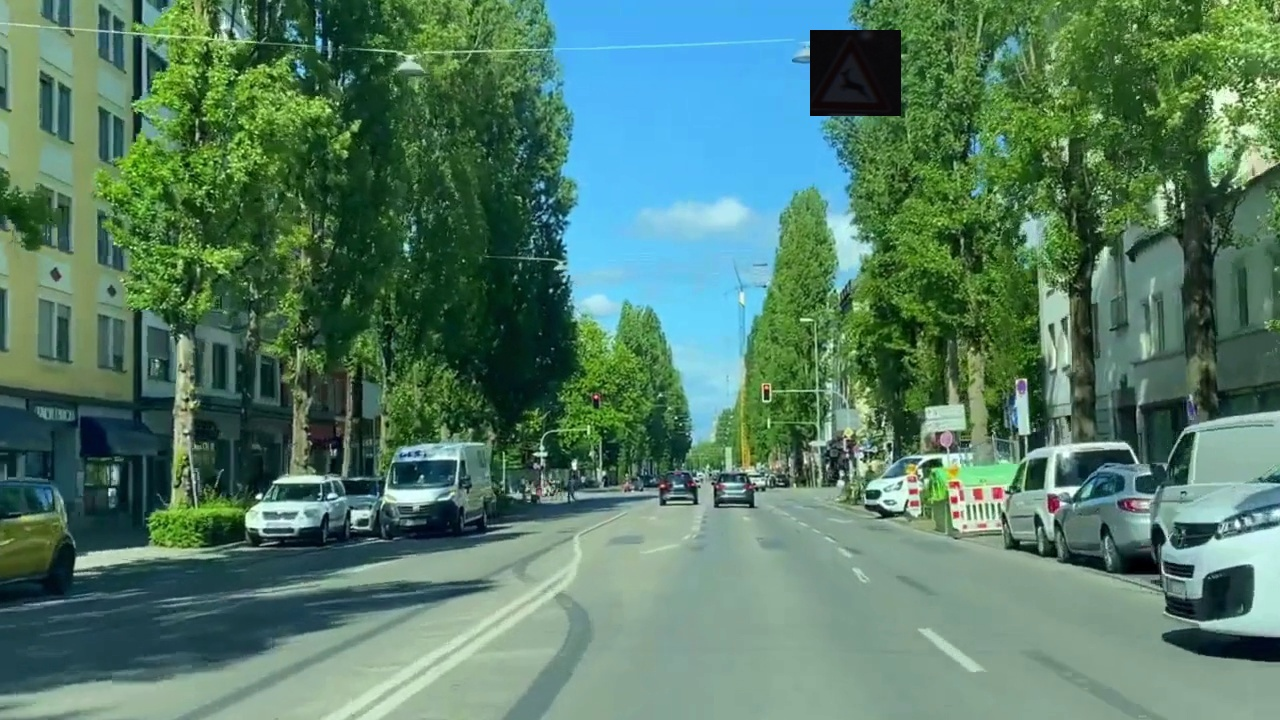Wild animals: (810, 30, 901, 116)
